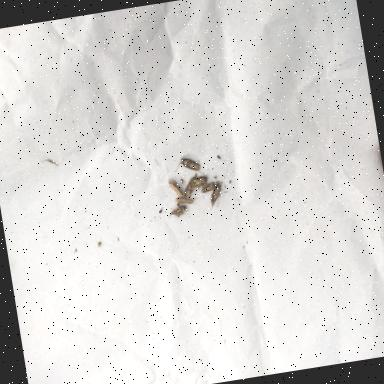pbw: (170, 152, 202, 175), (206, 182, 224, 209), (180, 174, 198, 198), (167, 204, 188, 220), (167, 178, 183, 198), (192, 175, 210, 189), (176, 193, 194, 206), (200, 182, 216, 194)
